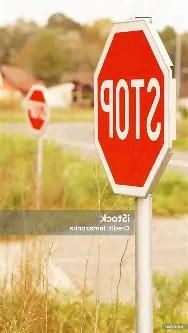Stop: (95, 29, 165, 187), (26, 89, 47, 130)
